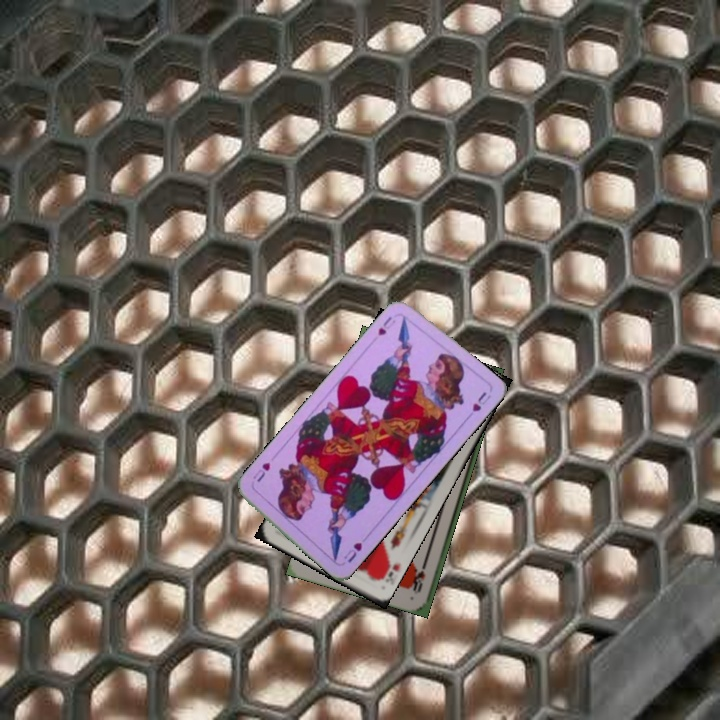HK: (373, 552, 396, 586)
HO: (410, 558, 429, 595)
HU: (340, 538, 365, 566), (373, 312, 394, 338)
